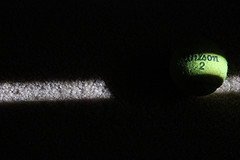tennis ball: (169, 46, 229, 95)
